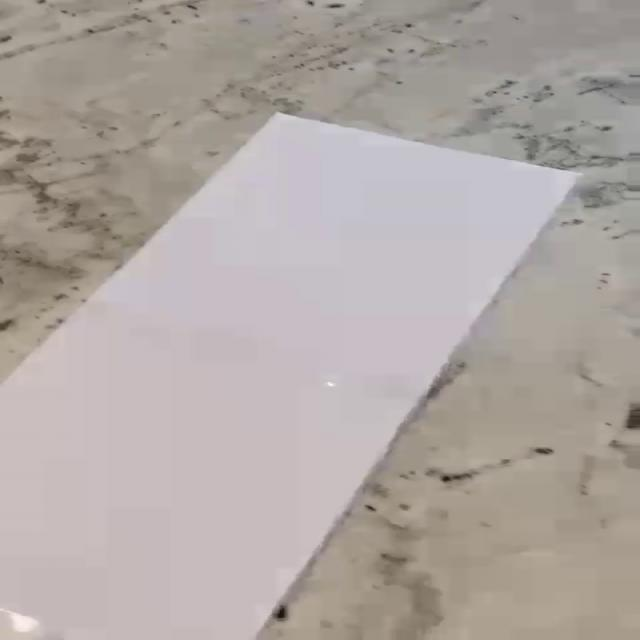road: (0, 112, 596, 640)
